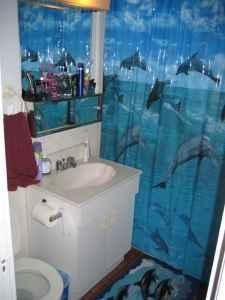Ducha: (105, 10, 209, 275)
Lavamanos: (37, 136, 140, 209)
Sanitario: (16, 252, 64, 299)
